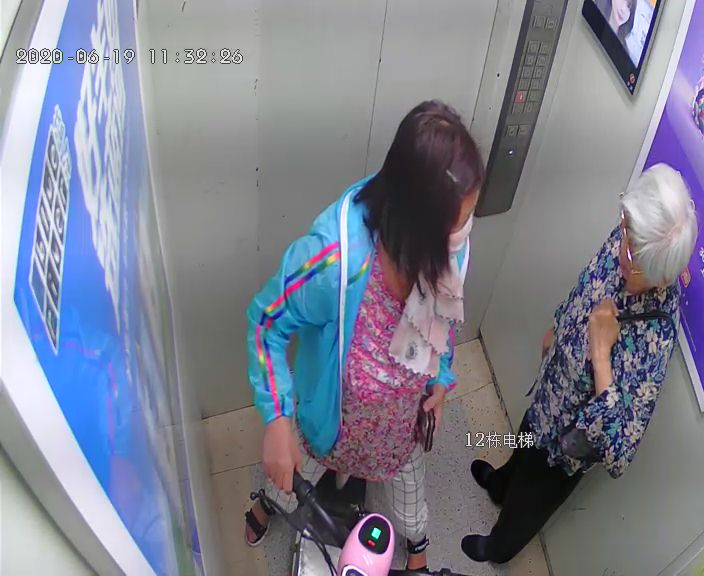Electric-bicycle: (244, 447, 453, 576)
